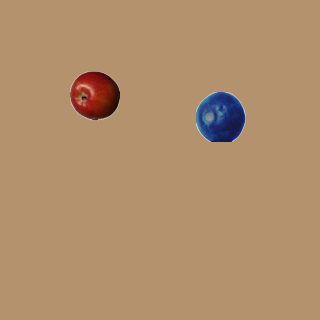Apple Braeburn: (69, 70, 119, 120)
Huckleberry: (195, 91, 245, 141)
